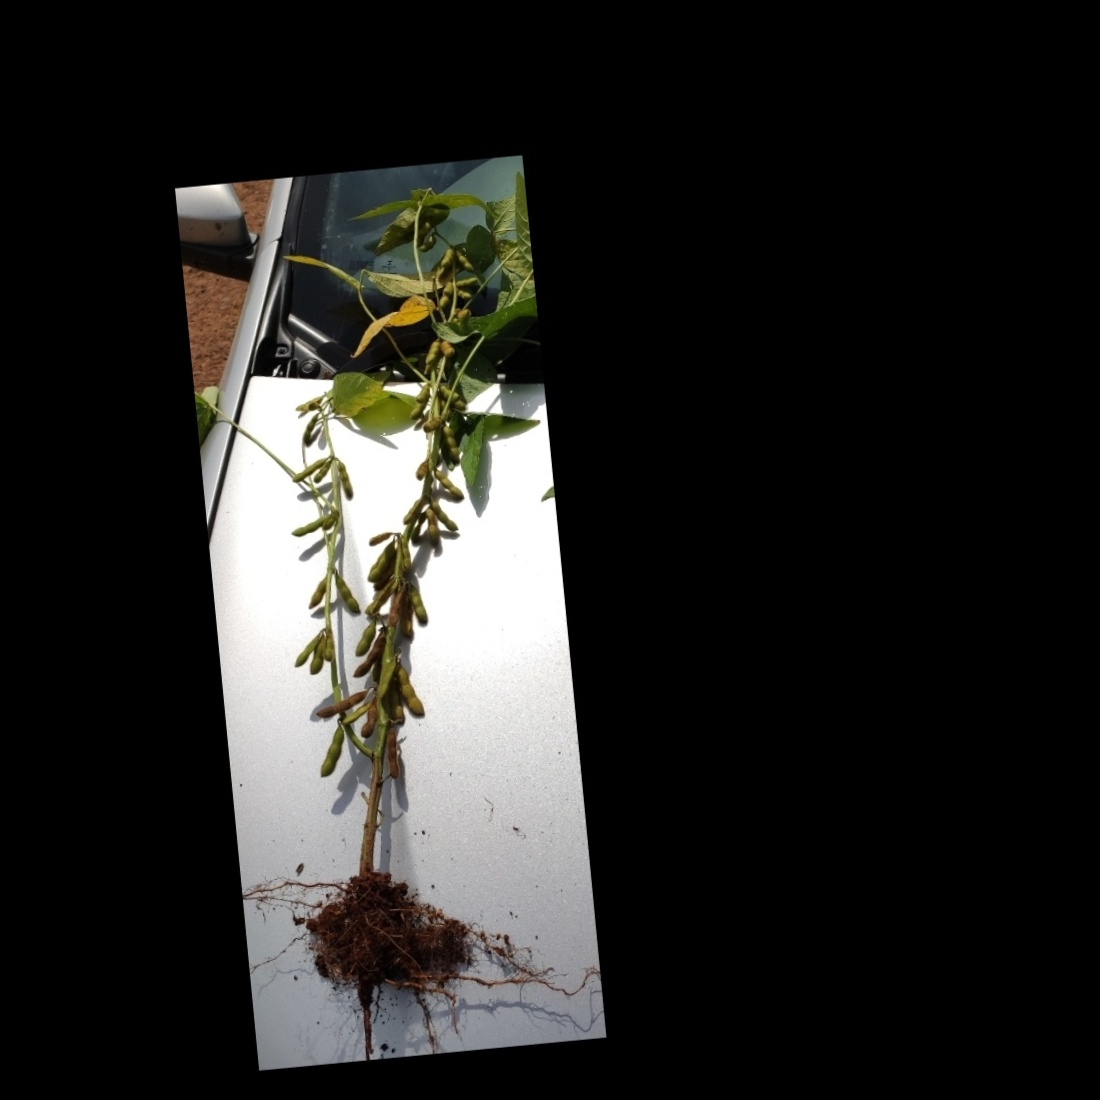pod: (305, 685, 375, 724), (312, 717, 349, 781), (394, 659, 427, 727), (287, 626, 331, 673), (345, 610, 385, 660), (328, 566, 362, 621), (405, 578, 434, 636), (432, 460, 468, 506), (380, 727, 407, 784), (336, 700, 385, 730), (286, 454, 334, 485), (429, 500, 461, 538), (286, 514, 330, 541), (334, 453, 356, 506), (411, 413, 449, 437), (423, 503, 442, 549), (420, 333, 446, 365)
soy: (174, 169, 598, 1030)
